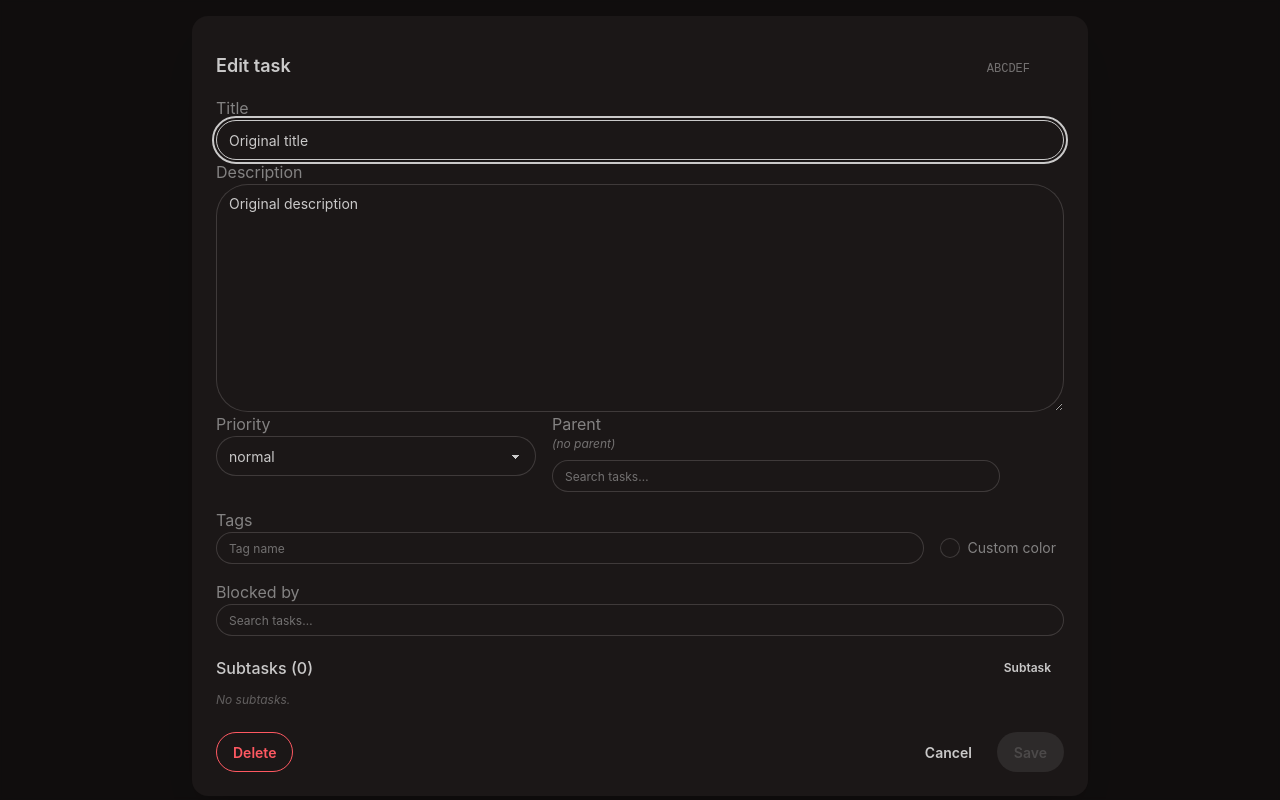
Test: TaskEditModal dirty tracking › Save is disabled until the user actually changes a field
expect the button "Save" is disabled: met, box [997,732,1064,772]
Replace the text in the field labelled "Title" with "Edited title": (640, 140) [216,120,1064,160]
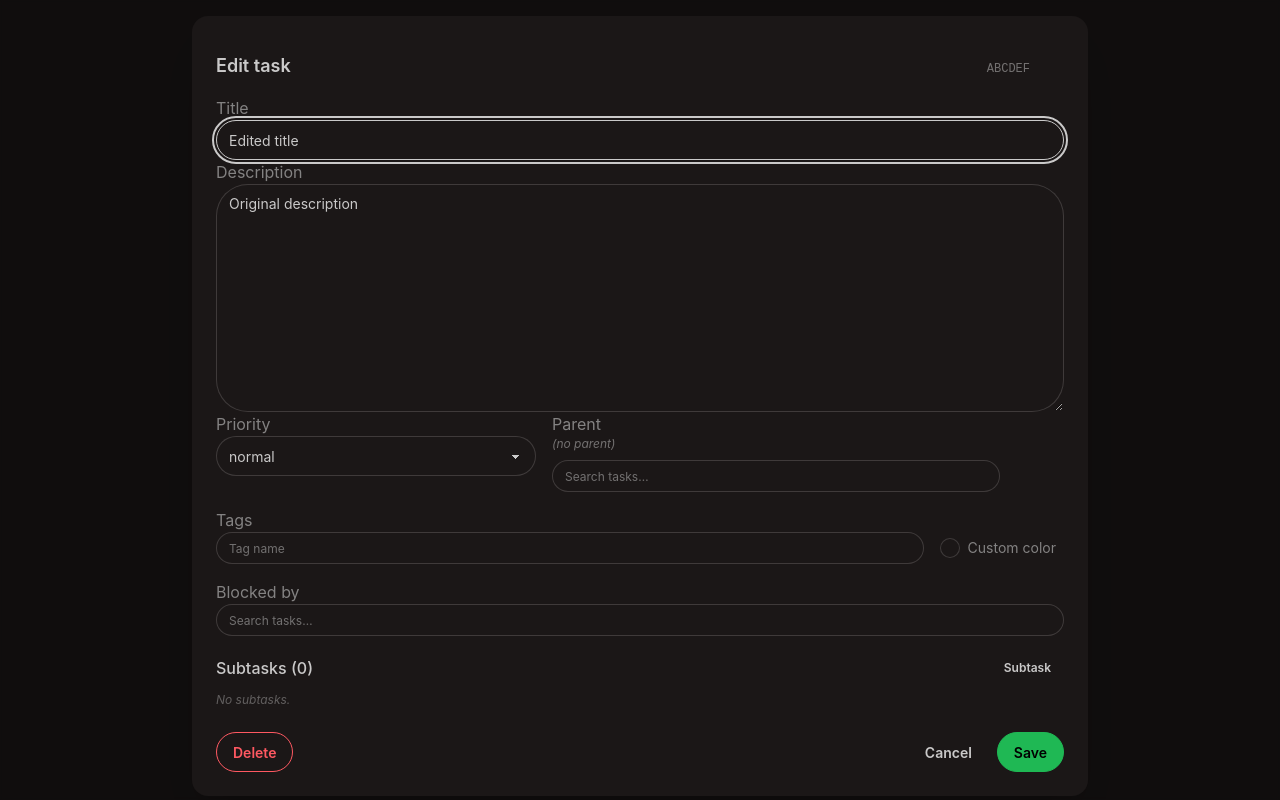
expect the button "Save" is enabled: met, box [997,732,1064,772]
